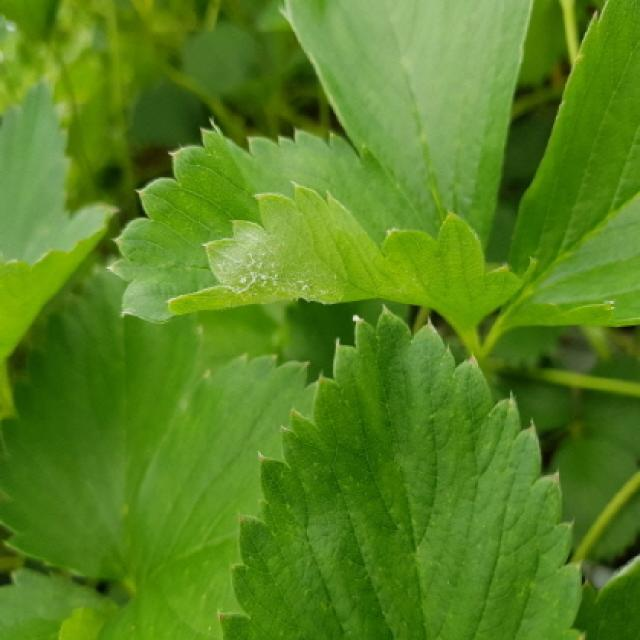powdery_mildew_leaf: (107, 127, 539, 353)
